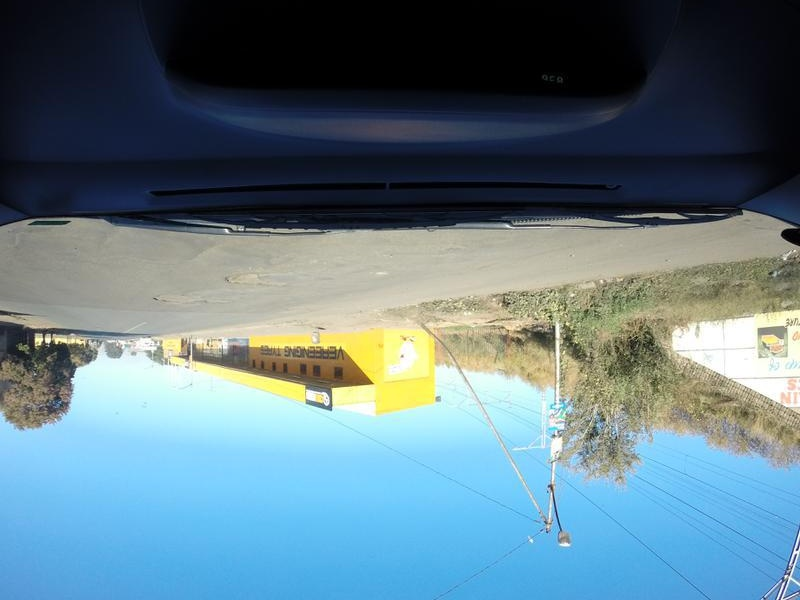pothole: (153, 289, 208, 306), (224, 271, 264, 288)
